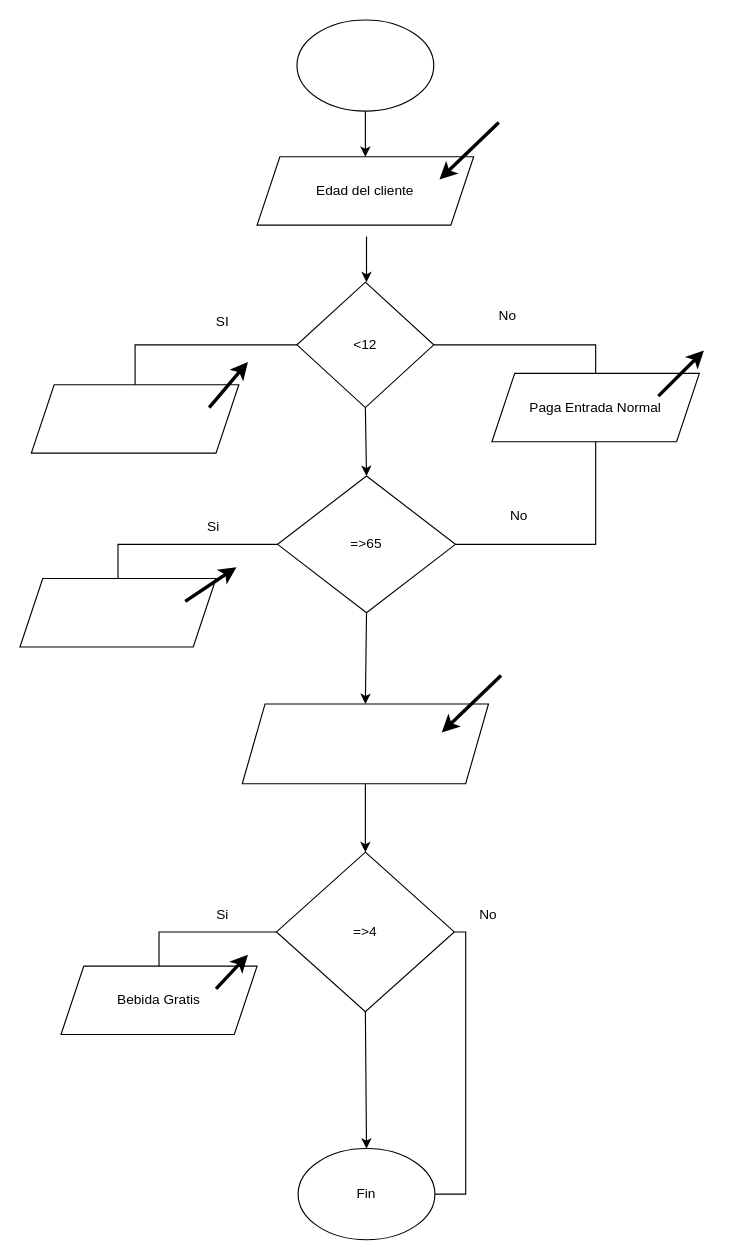
Some shapes in this 734 by 1260 pixel diagram are drawn without their labels. Each missing label, with the box of its shape:
Cuantas entradas compro: (241, 703, 488, 784)
Inicio: (296, 19, 434, 111)
Recibe 15% de Descuento: (19, 577, 216, 647)
Recibe 20% escuento: (30, 384, 239, 453)
